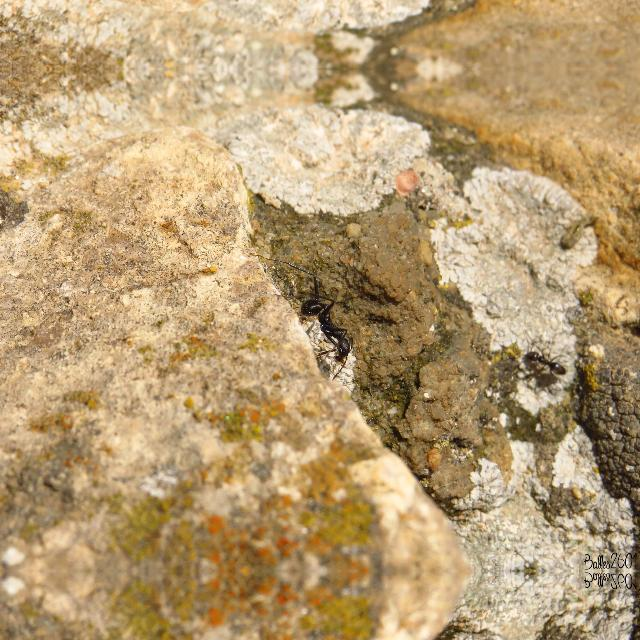Apheanogaster: (284, 284, 366, 381), (522, 342, 572, 378)
